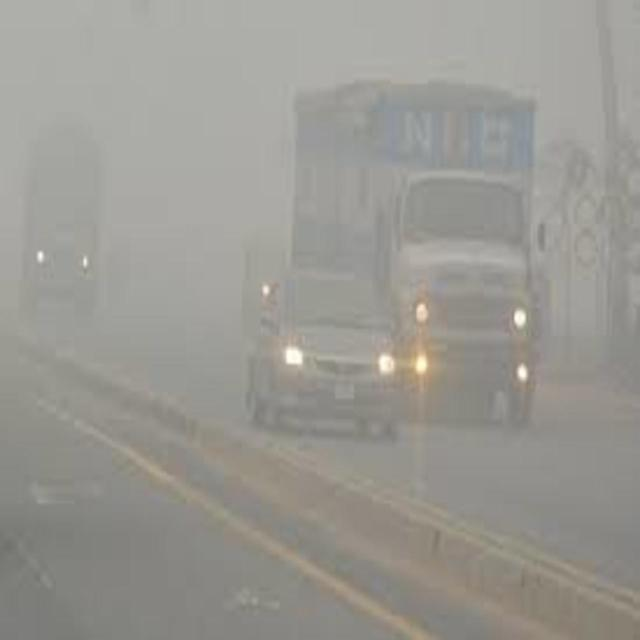car: (253, 267, 399, 444)
